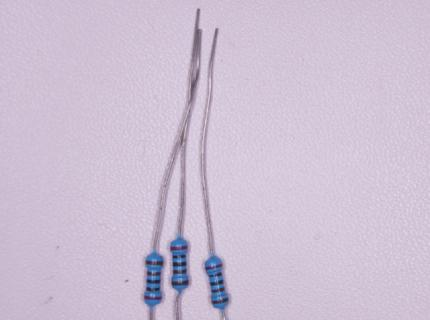Black band: (208, 272, 223, 278), (210, 280, 224, 286), (146, 279, 161, 284), (172, 262, 187, 267), (146, 287, 160, 292), (172, 255, 186, 259)
Brown band: (211, 298, 230, 305), (211, 286, 225, 294), (145, 260, 163, 266), (172, 280, 189, 286), (146, 271, 161, 276), (173, 269, 187, 274)
Red band: (205, 263, 223, 271), (170, 245, 188, 251), (144, 295, 162, 300)
